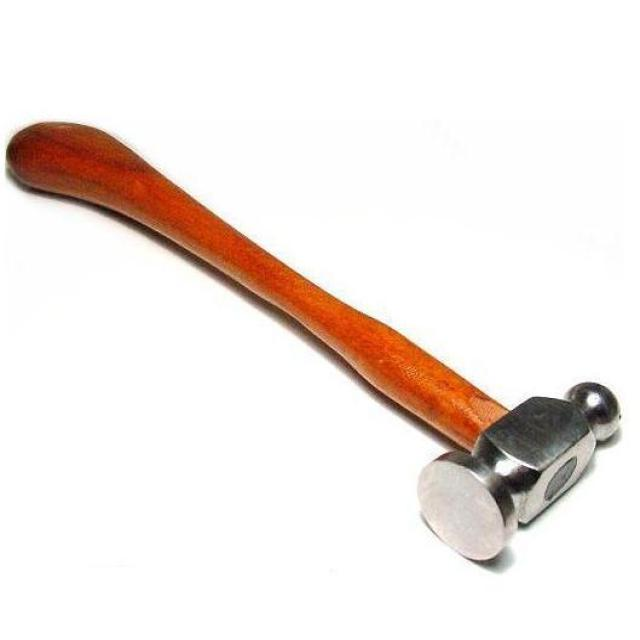hammer: (0, 62, 640, 625)
